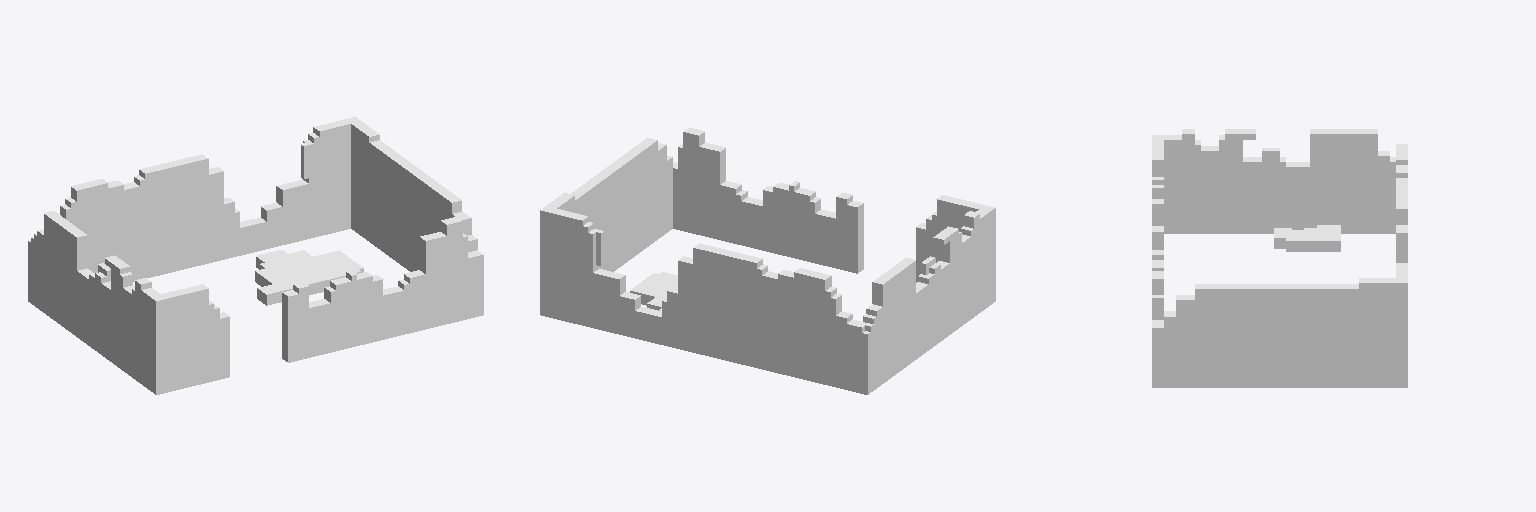
File: SkeletonLair-8.obj
3 renders of one model, left to right at view 1: azimuth 30°, elevation 25°; view 2: azimuth 150°, elevation 25°; view 3: azimuth 270°, elevation 25°, orthographic.
Visible parts, largest first — view 1: object 1; view 2: object 1; view 3: object 1.
Part boxes in pixels (x1,y1,x2,y2): object 1: (28, 117, 483, 394); object 1: (540, 127, 995, 394); object 1: (1152, 129, 1407, 387).
Size of the model in its own units: 6.2 by 1.9 by 4.2.